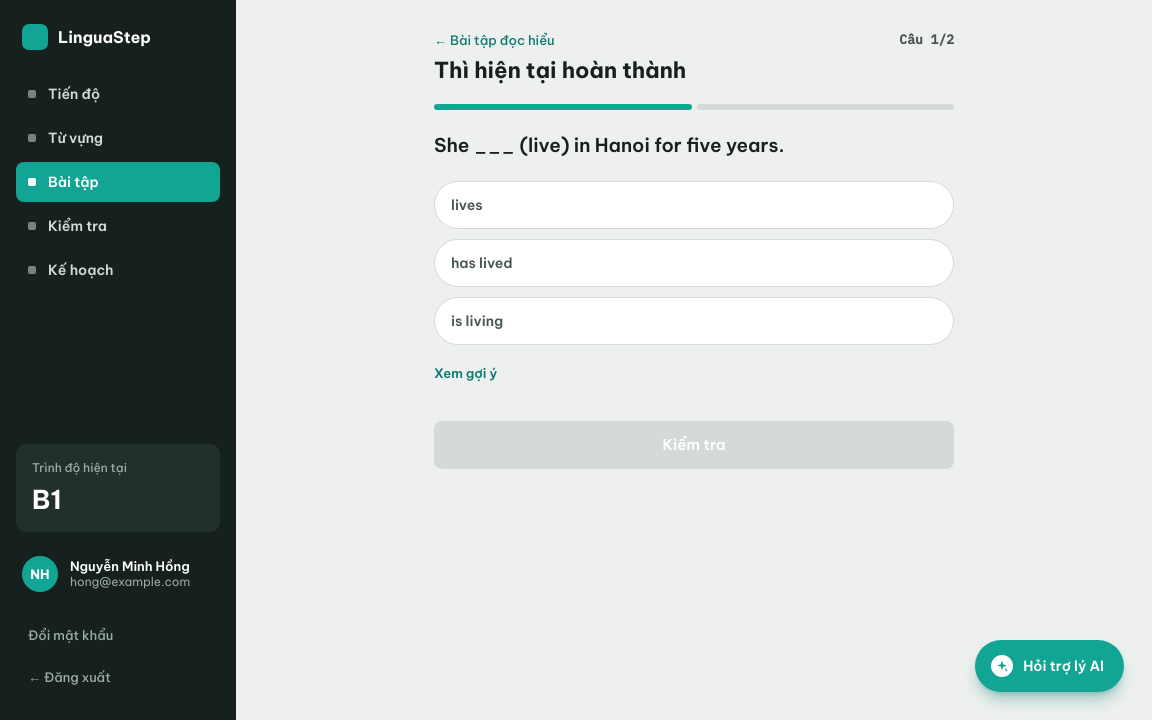
Scenario: AI assistant › reopens the latest chat of this lesson when the learner comes back to it (scenario 13, branch 2a)
The image size is (1152, 720).
expect the text "Câu 1/2" is shown: met, box [899,32,954,48]
Click the button "Hỏi trợ lý AI" at (1050, 666), box [975,640,1124,692]
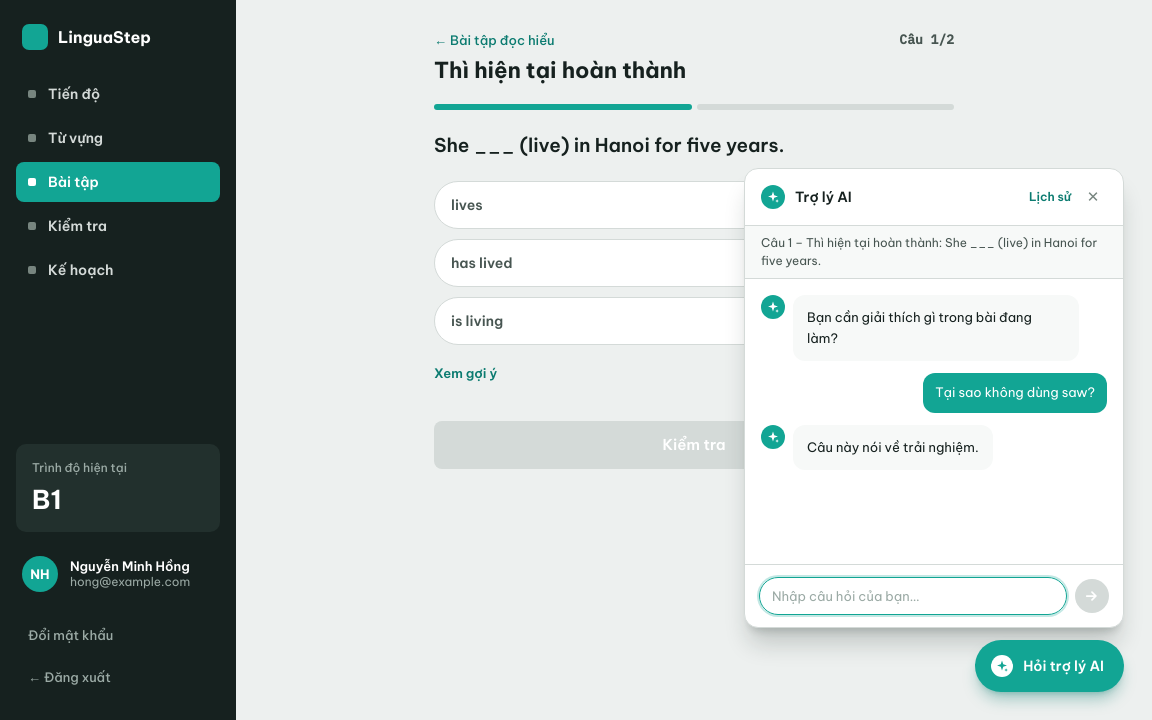
expect the text "Tại sao không dùng saw?" is shown: met, box [923,373,1107,413]
expect the text "Câu này nói về trải nghiệm." is shown: met, box [807,437,979,458]
Type "Thêm ví dụ?" into the field named "Câu hỏi cho trợ lý AI" at (913, 596), box [759,577,1067,615]
Then press Enter
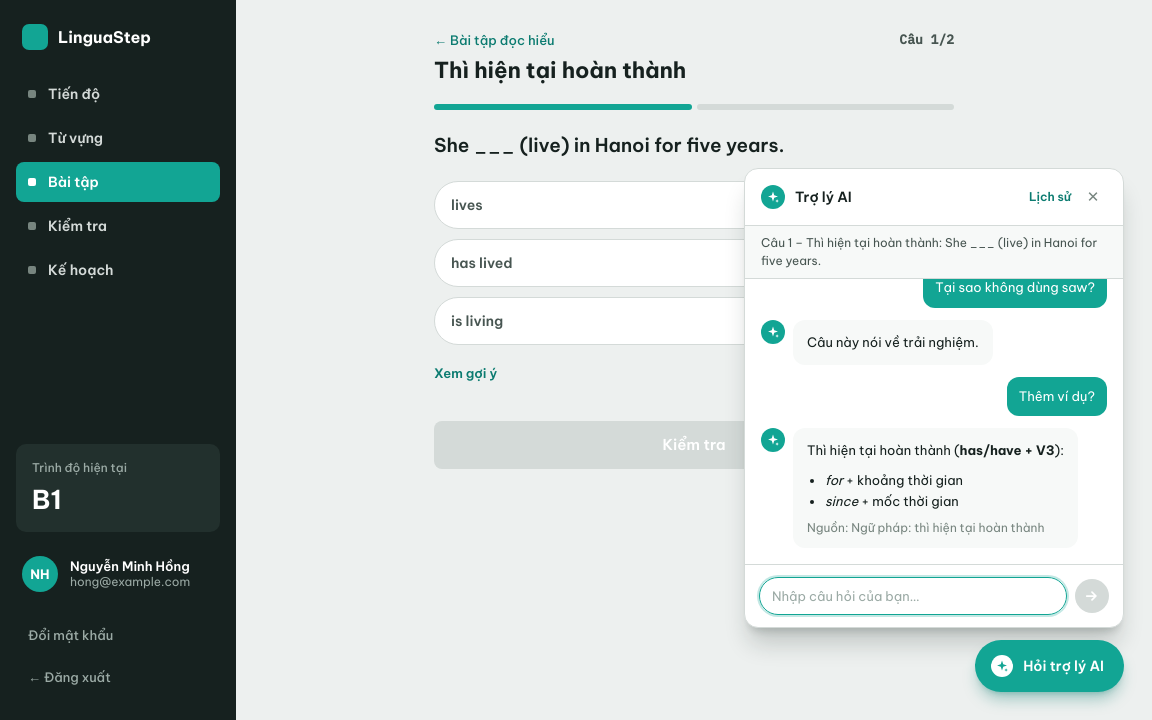
expect the text "has/have + V3" is shown: met, box [960,442,1054,458]
